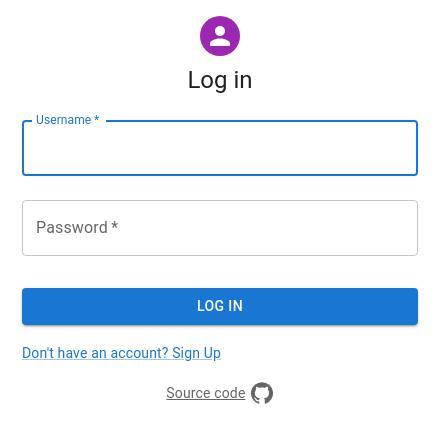
Test: Login Page tests › should show errors when no username is given
The width and height of the screenshot is (441, 445).
Step 1. Type "123" into the password field with test id "login-password-field" → (220, 228), box [22, 200, 418, 256]
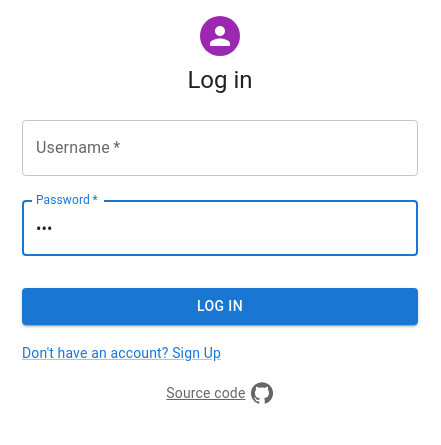
Step 2. Click the button "Log In" → (220, 306), box [22, 288, 418, 324]
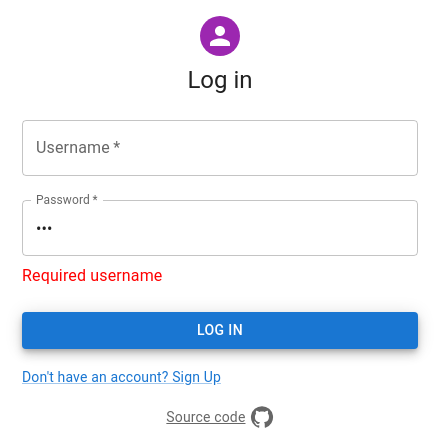
Expected: the text "Required username" is shown, [22, 266, 162, 285]
